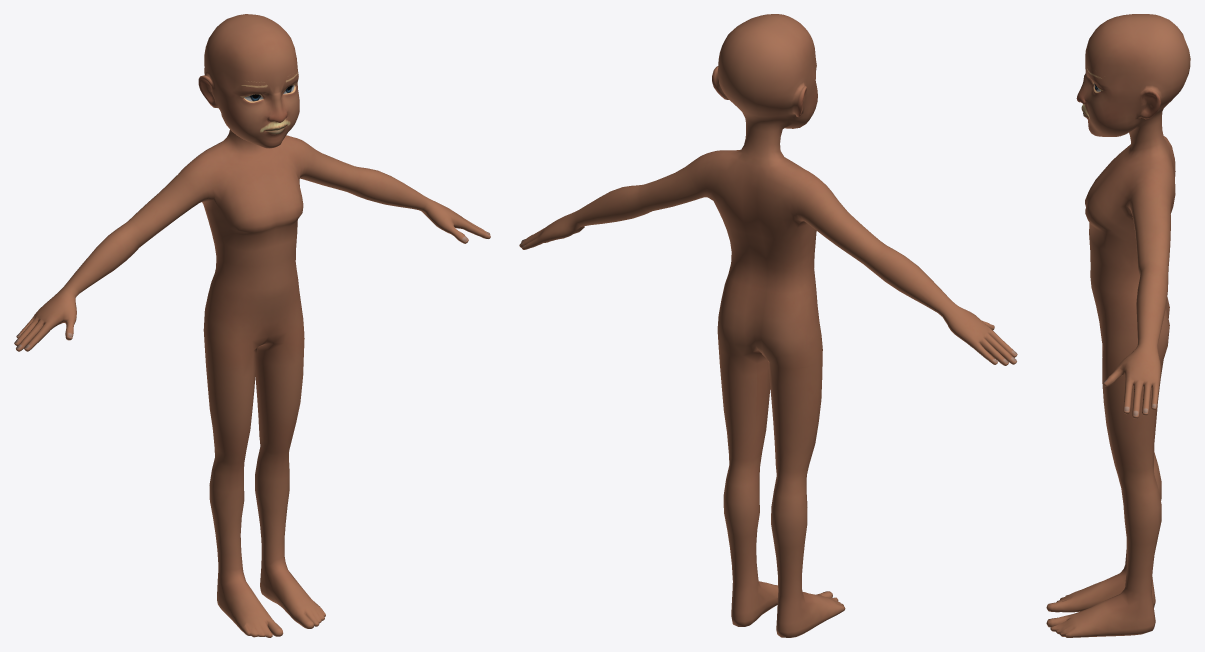
File: frame_0070.glb
3 renders of one model, left to right at view 1: azimuth 30°, elevation 25°; view 2: azimuth 150°, elevation 25°; view 3: azimuth 270°, elevation 25°, orthographic. The views are drawn at different scales.
Visible parts, largest first — view 1: frame_0070_head_geo; view 2: frame_0070_head_geo; view 3: frame_0070_head_geo.
Boxes of the visible parts, x1,y1,x2,y2 form: frame_0070_head_geo: (14, 14, 490, 637); frame_0070_head_geo: (519, 14, 1017, 637); frame_0070_head_geo: (1046, 14, 1190, 637).
Bounding box in the file's own units: 1.28 × 1.5 × 0.3253.
3 materials, 3 textured.
